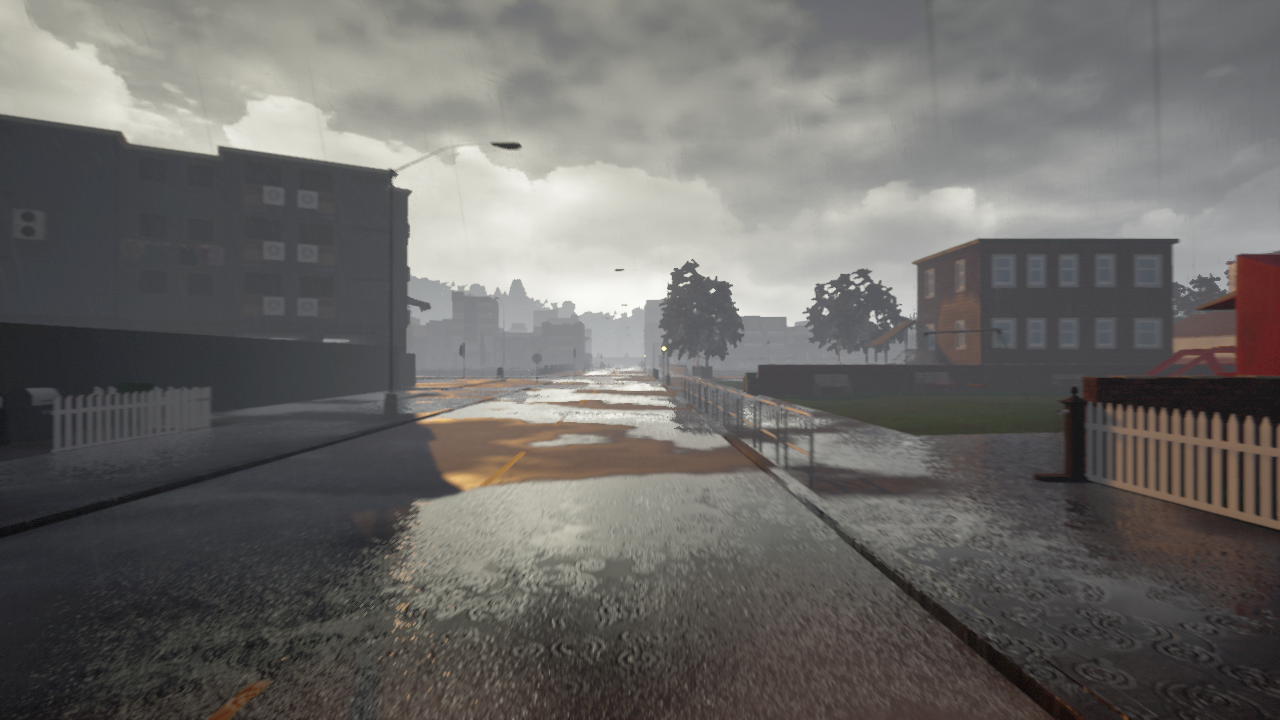yellow: (660, 340, 667, 356)
